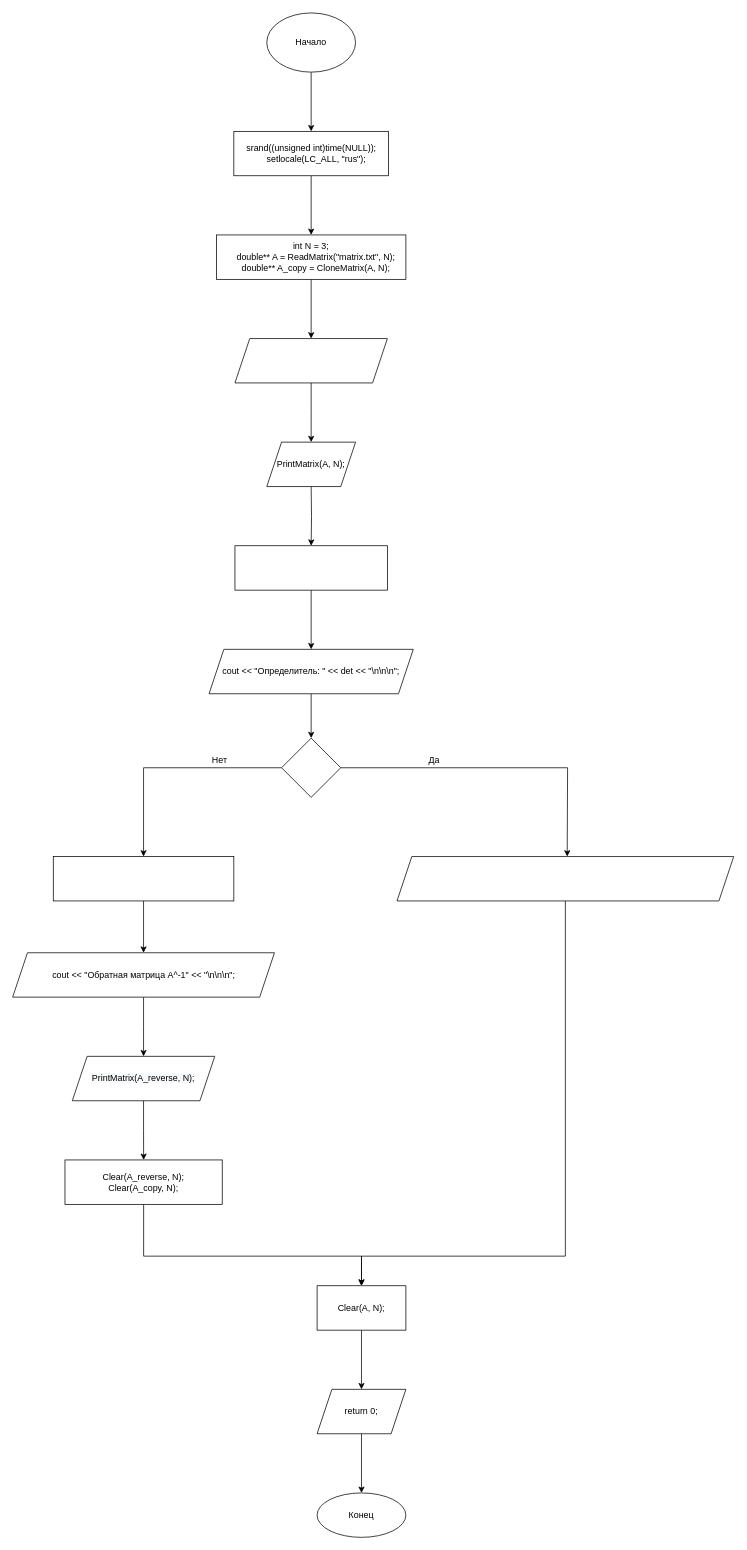
Some shapes in this 747 by 1550 pixel diagram are drawn without their labels. The shapes that lost their labels are listed below. From the top down, each one's centre as x and y in pixels, then its label:
(310,360): cout << "Матрица A" << "\n\n";
(310,567): double det = Determinant(A, N);
(311,767): det == 0
(143,878): double** A_reverse = Inverse(A_copy, N);
(565,878): cout << "Матрица является вырожденной и не имеет обратной матрицы";
